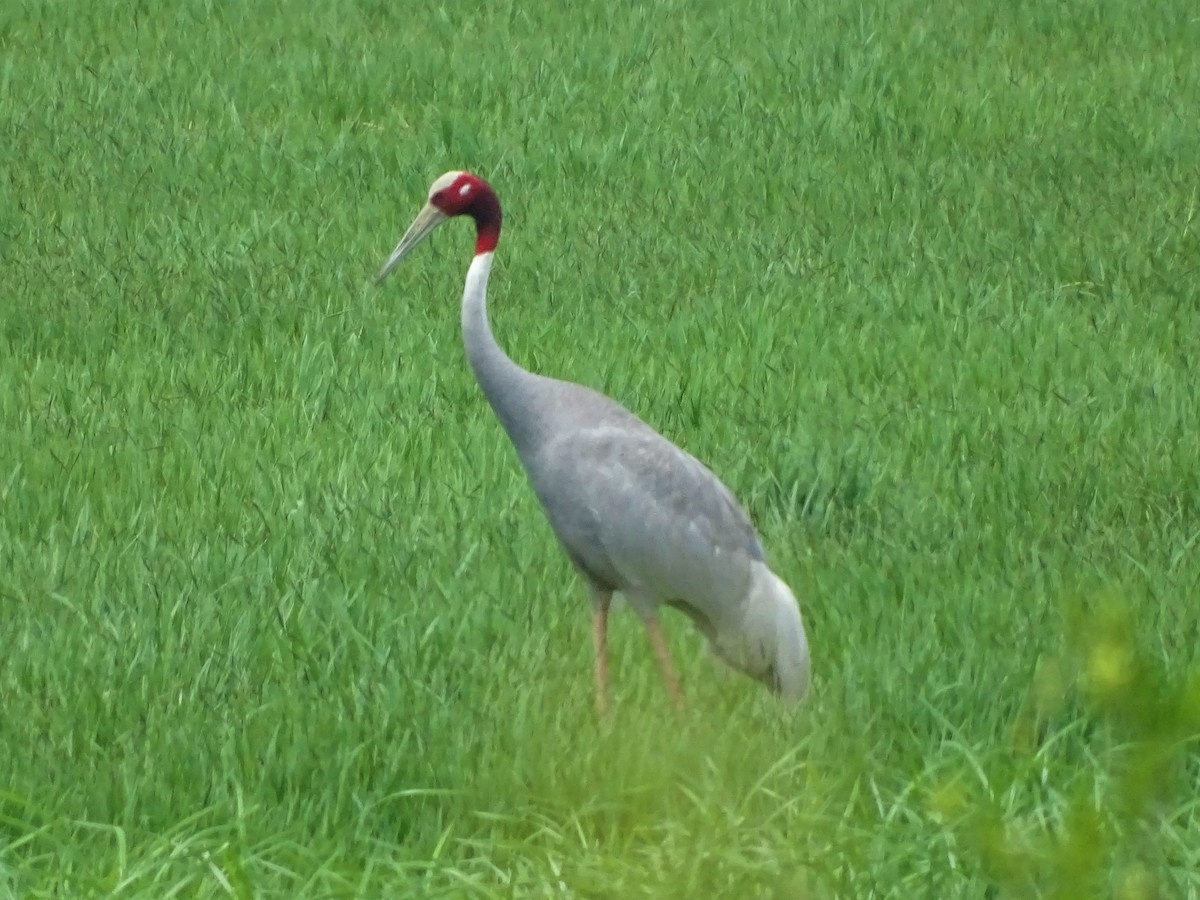crane: (381, 163, 831, 752)
